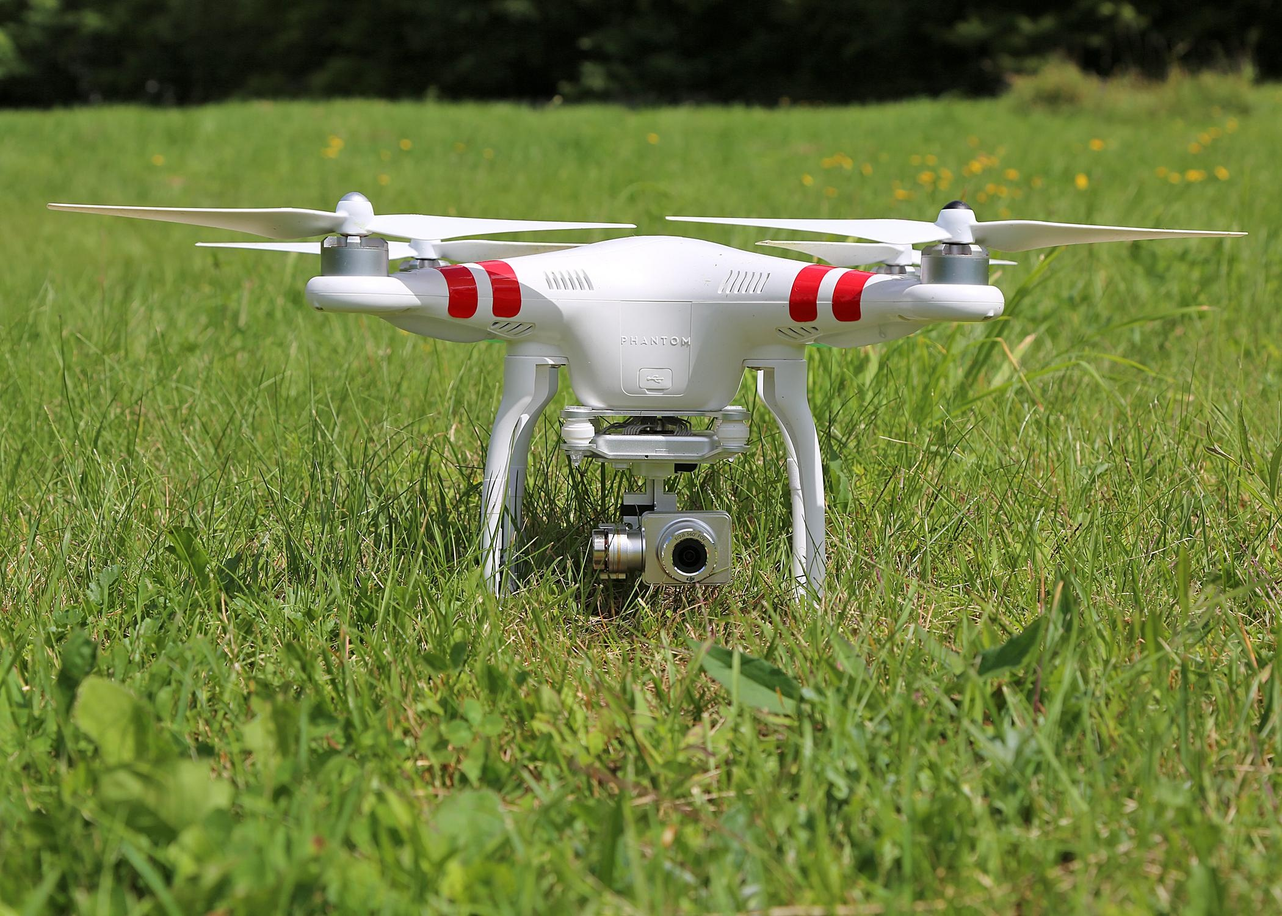aircraft: (51, 189, 1092, 610)
